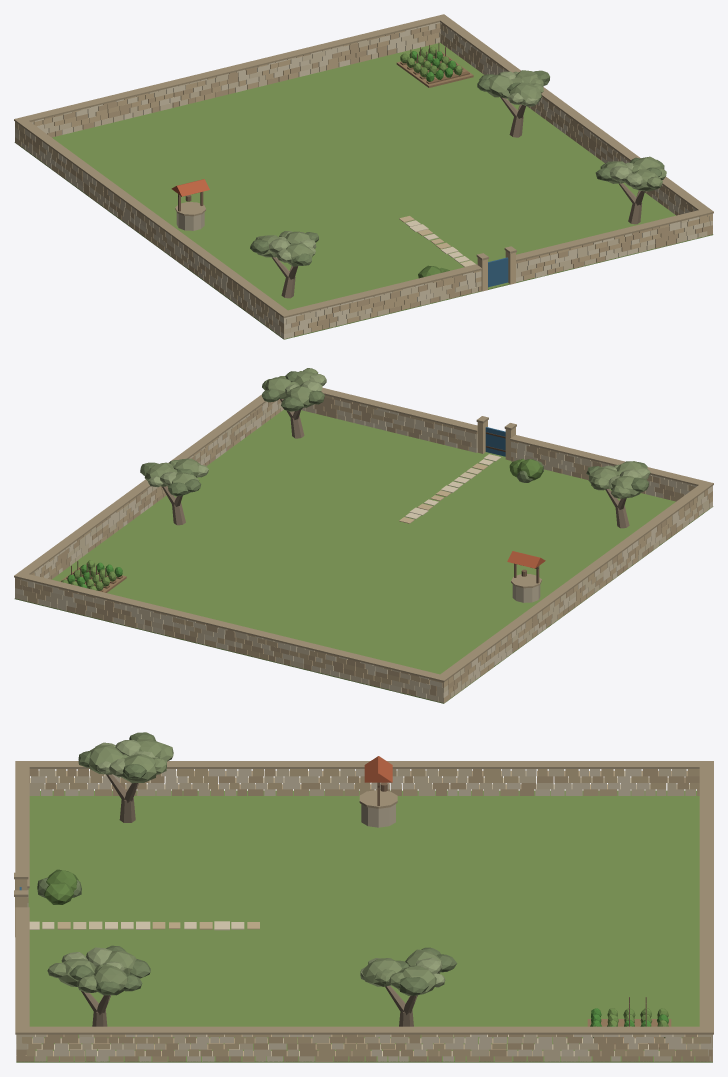
The model's file is bahce-arsasi-zeytinli.glb.
The picture shows the model from 3 angles, top to bottom: view 1: azimuth 30°, elevation 25°; view 2: azimuth 150°, elevation 25°; view 3: azimuth 270°, elevation 25°; orthographic projection. The views are drawn at different scales.
Parts seen in each view (by area): view 1: cim, tas_koyu, tas2, tas4, tas3, tas1, zeytin1, zeytin2, kabuk, zeytin3, yaprak1, mavi_kapi (+1 smaller); view 2: cim, tas_koyu, tas4, tas2, tas1, tas3, zeytin1, zeytin3, zeytin2, kabuk, yaprak1; view 3: cim, tas_koyu, tas4, tas2, tas3, tas1, zeytin1, zeytin3, zeytin2, kabuk, yaprak2, kuyu (+2 smaller).
Boxes of the visible parts, x1,y1,x2,y2 form: cim: (14,43,713,339); tas_koyu: (14,14,713,317); tas2: (15,23,712,336); tas4: (15,22,712,338); tas3: (19,23,712,329); tas1: (15,22,709,336); zeytin1: (255,70,666,266); zeytin2: (269,71,642,262); kabuk: (272,97,644,298); zeytin3: (250,70,664,265); yaprak1: (400,46,462,77); mavi_kapi: (488,257,508,287); cim: (14,409,713,703); tas_koyu: (14,387,713,682); tas4: (15,400,712,698); tas2: (15,395,712,702); tas1: (15,399,709,702); tas3: (15,397,712,696); zeytin1: (144,368,643,498); zeytin3: (140,371,648,496); zeytin2: (147,374,650,488); kabuk: (162,399,629,528); yaprak1: (61,560,116,590); cim: (16,790,712,1062); tas_koyu: (14,761,713,1034); tas4: (16,769,712,1061); tas2: (15,769,712,1061); tas3: (16,769,712,1061); tas1: (16,769,712,1061); zeytin1: (47,739,441,995); zeytin3: (37,732,457,995); zeytin2: (61,740,445,987); kabuk: (81,774,417,1026); yaprak2: (44,869,78,904); kuyu: (361,804,395,827).
Size of the model in its own units: 23.06 by 3.06 by 25.11.
